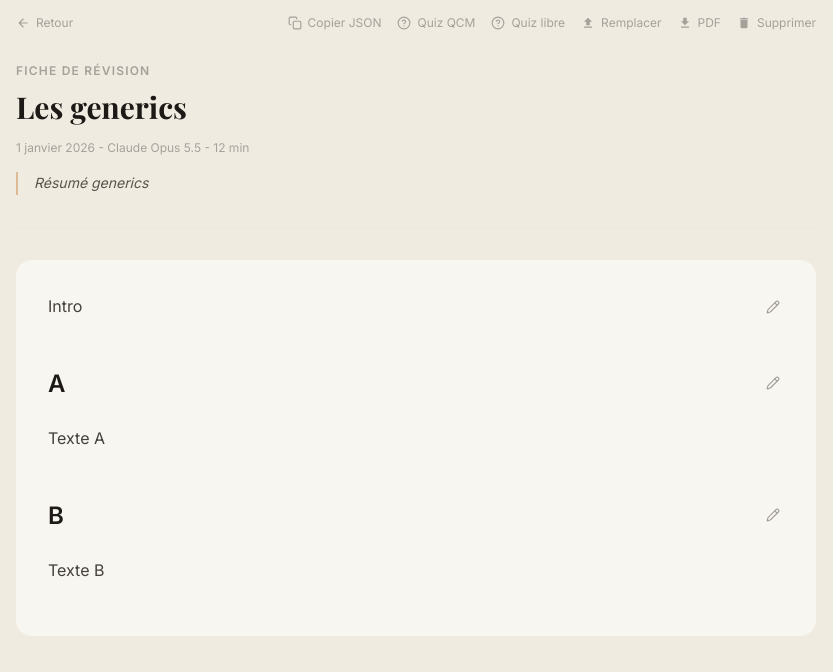
it: FlashCardDetailPage section editing › opens the editor with the section markdown and focuses it
Step 1. Click the button named "Modifier la section « B »" → (773,515), box [762,504,784,526]
(page scrolled)
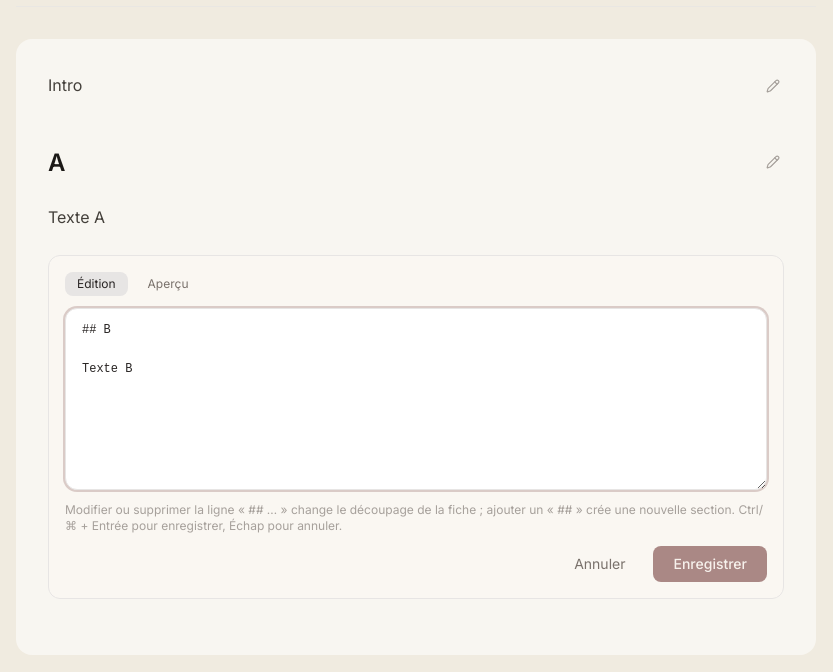
Result: the element named "Édition de la section « B »" is shown at [48,255,784,599]
